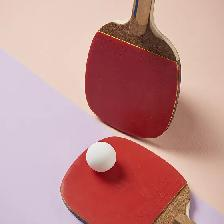WhiteBall: (85, 142, 116, 172)
